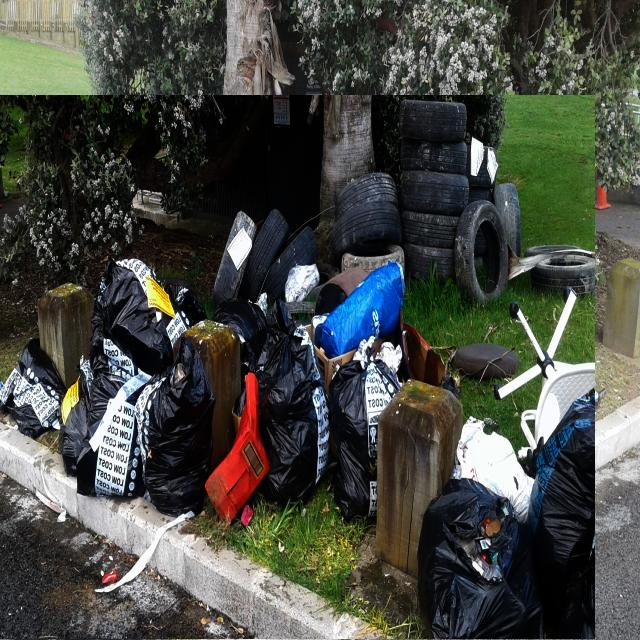dumping: (0, 95, 595, 639)
